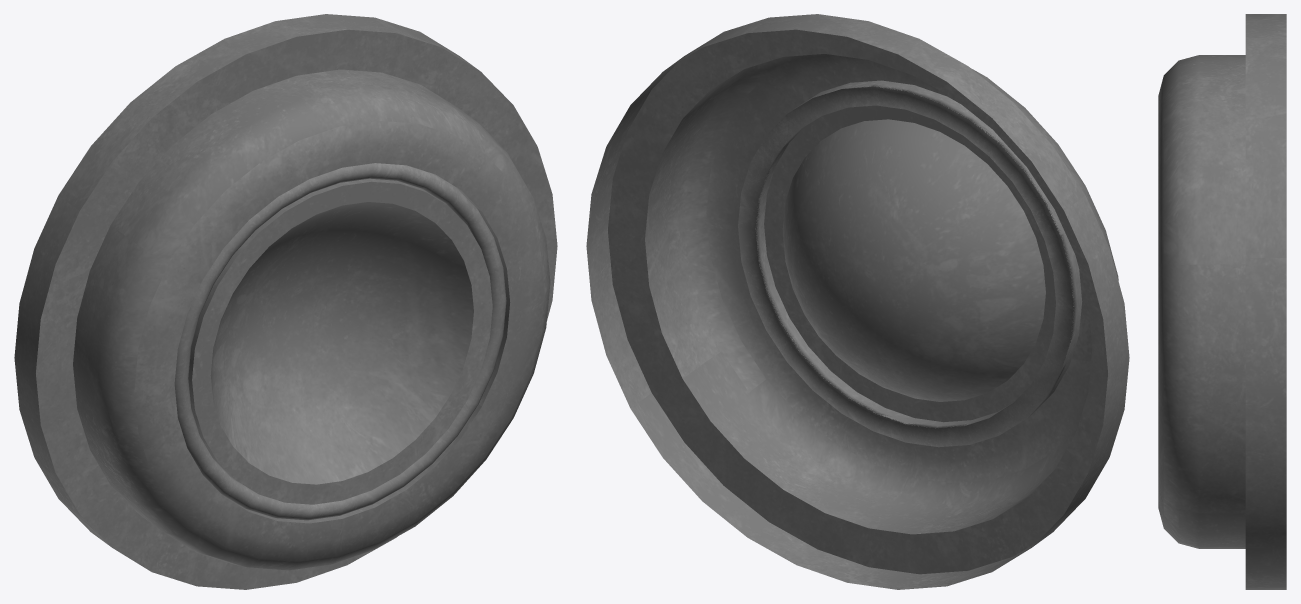
Rendered from socket.fbx.
The picture shows the model from 3 angles, left to right: view 1: azimuth 30°, elevation 25°; view 2: azimuth 150°, elevation 25°; view 3: azimuth 270°, elevation 25°; orthographic projection. The views are drawn at different scales.
Visible parts, largest first — view 1: socket_outer, socket_inner; view 2: socket_outer, socket_inner; view 3: socket_outer.
Part boxes in pixels (x1,y1,x2,y2): socket_outer: [14, 14, 557, 589]; socket_inner: [174, 163, 506, 520]; socket_outer: [586, 14, 1129, 589]; socket_inner: [738, 84, 1077, 447]; socket_outer: [1158, 14, 1286, 589].
Size of the model in its own units: 0.874 by 0.874 by 0.1947.
Materials: 1 (1 with a texture image).
